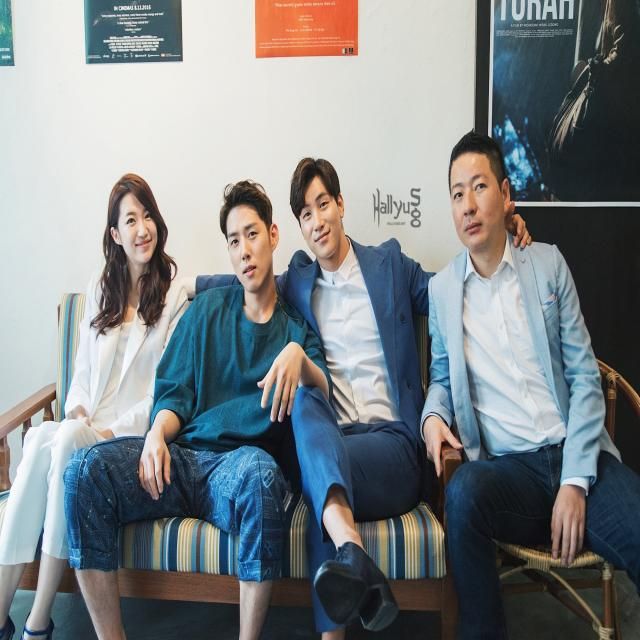body: (178, 152, 532, 640), (64, 176, 333, 640), (418, 125, 640, 640), (0, 170, 190, 639)
